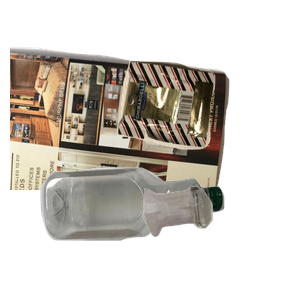glass: (141, 184, 300, 300)
paper: (10, 44, 232, 224)
plastic: (38, 165, 255, 300)
trash: (115, 58, 300, 200)
